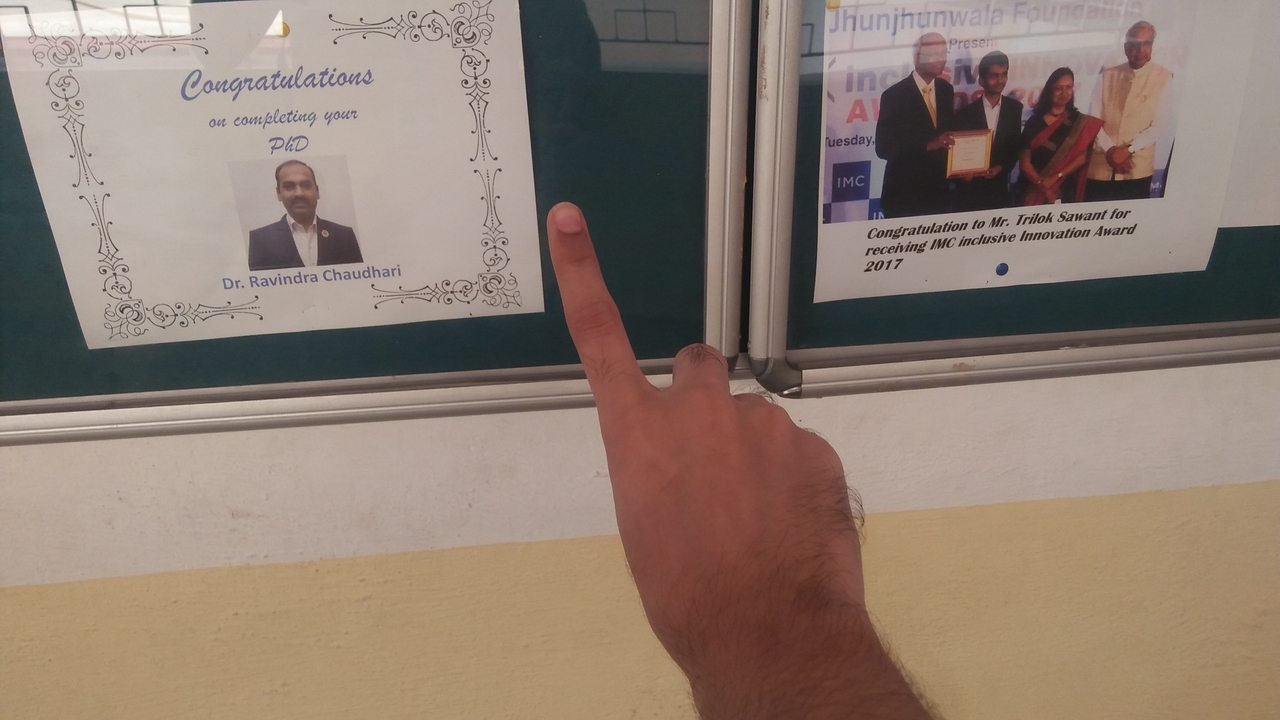fingertip: (542, 192, 598, 246)
